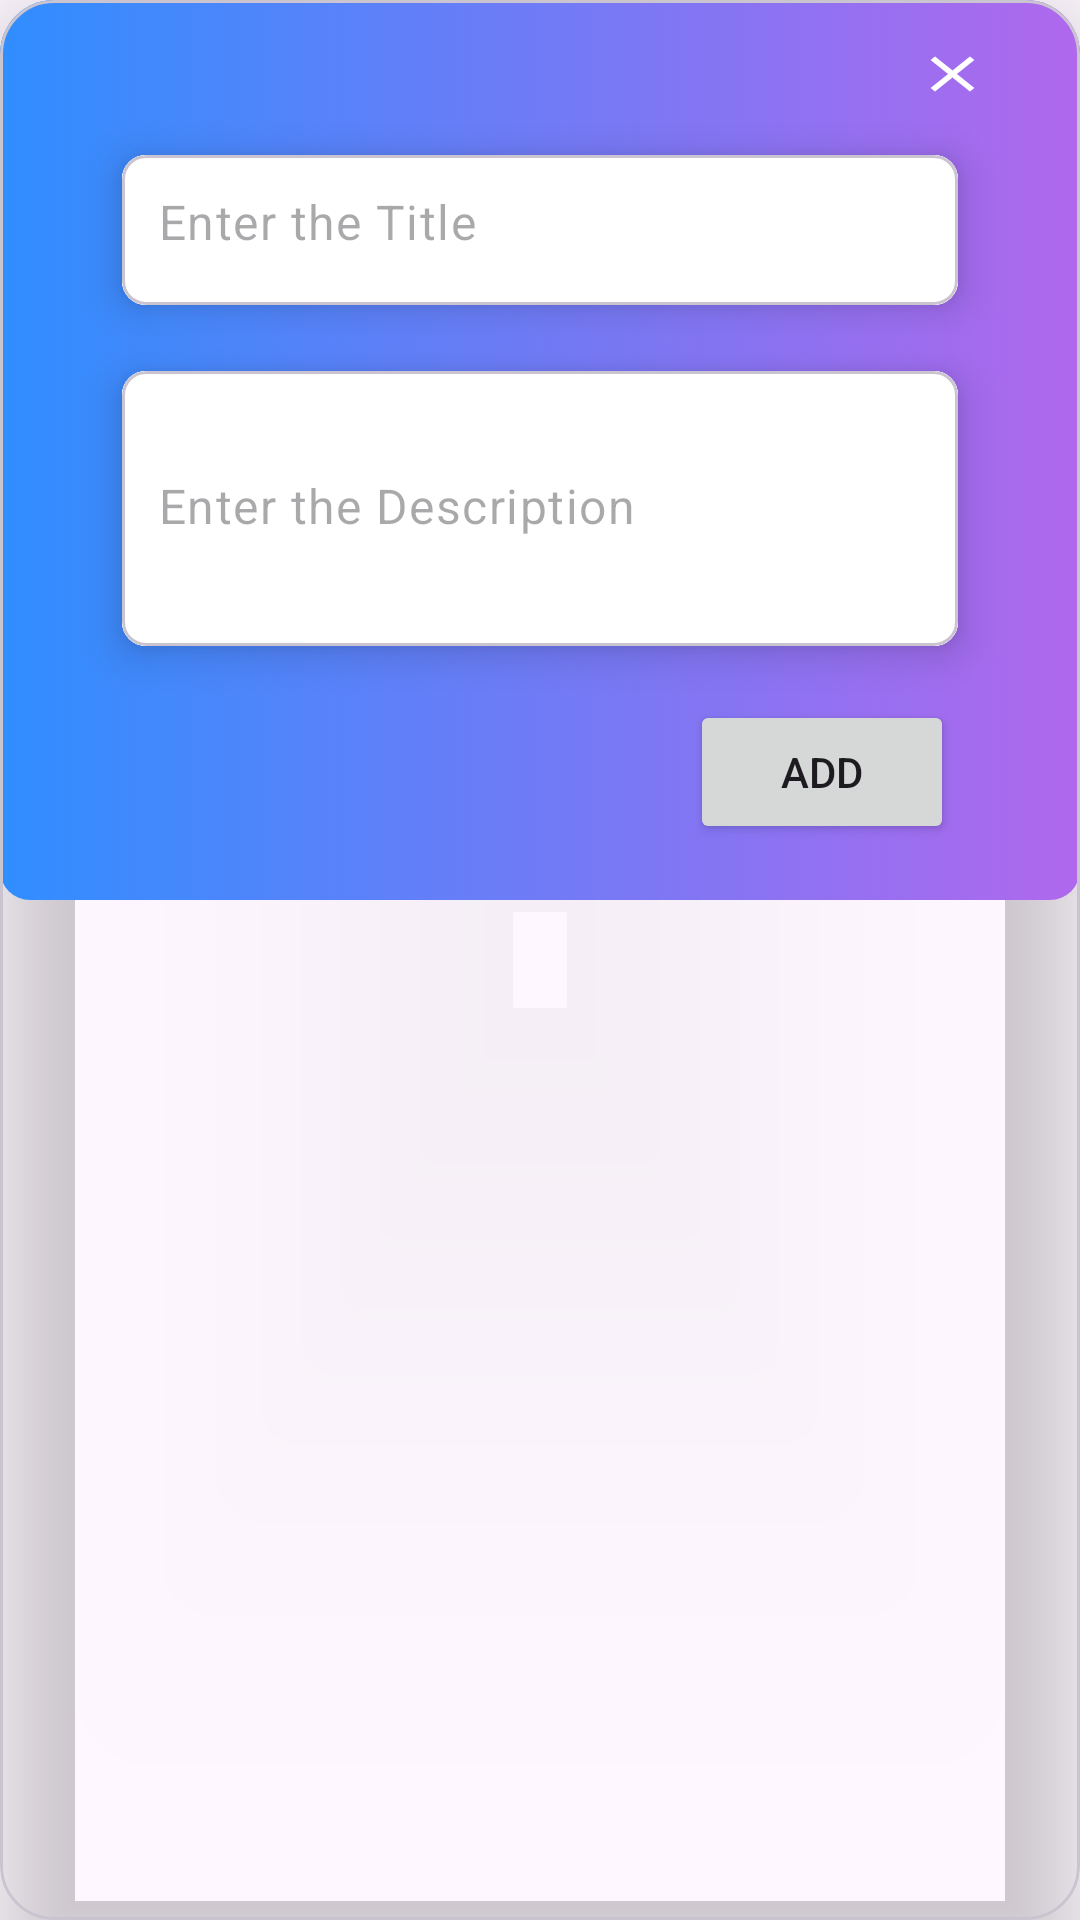

Point at icon controls on the screen. Image size 1080x1920, points as (x=x, y=y).
close: (x=952, y=74)
